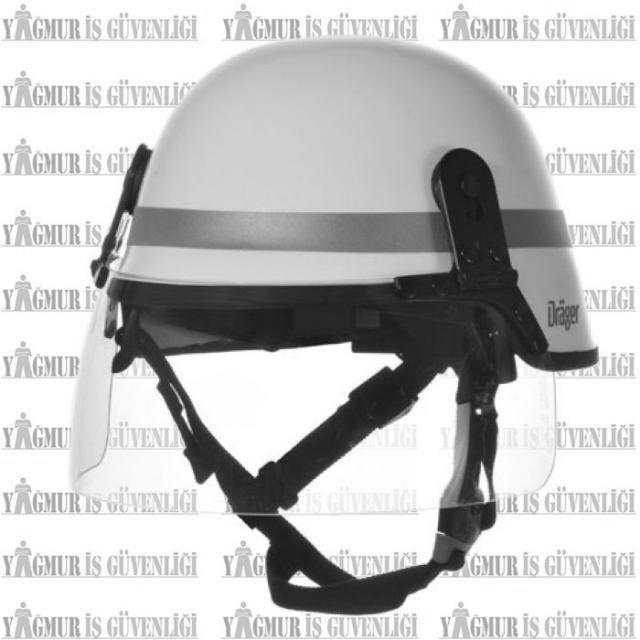safety_helmet: (69, 39, 599, 618)
